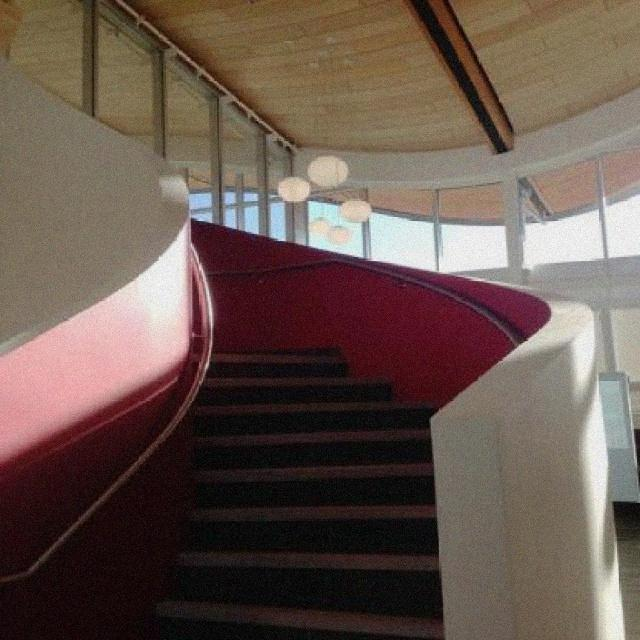stair: (128, 242, 418, 628)
